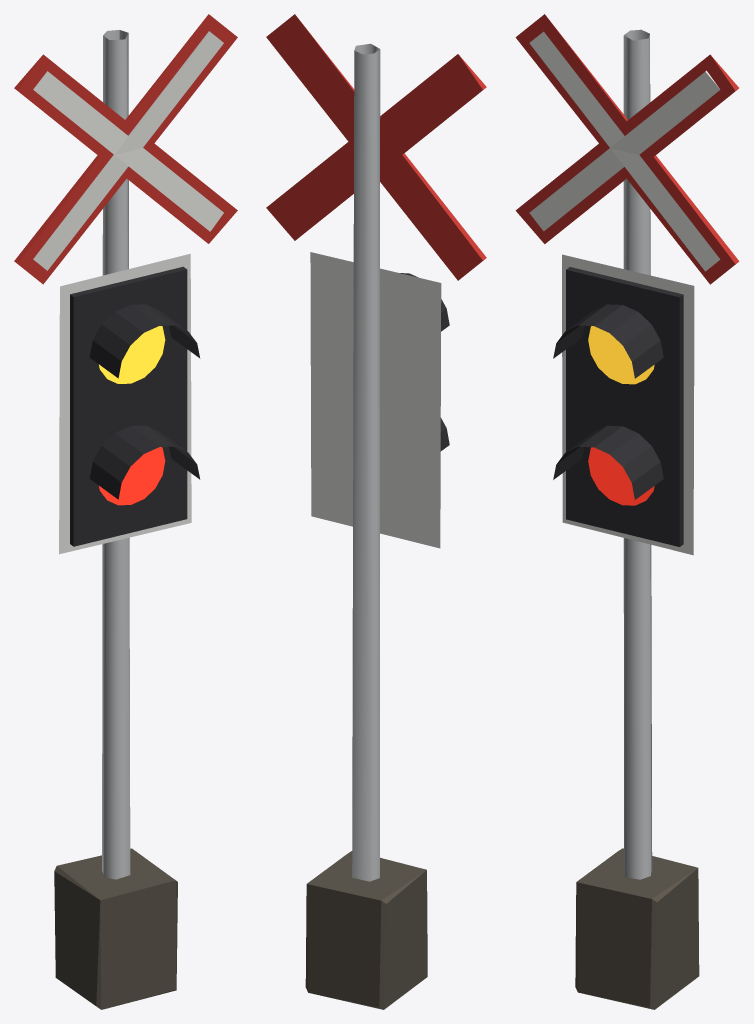
File: crossing-signal-lod1.glb
3 views of the same model, side by side, from view 1: azimuth 30°, elevation 25°; view 2: azimuth 150°, elevation 25°; view 3: azimuth 330°, elevation 25° (orthographic).
Parts seen in each view (by area): view 1: crossing-signal-0.001; view 2: crossing-signal-0.001; view 3: crossing-signal-0.001.
Boxes of the visible parts, box(x1,y1,x2,y2) form: crossing-signal-0.001: box(14, 14, 237, 1009); crossing-signal-0.001: box(266, 14, 486, 1009); crossing-signal-0.001: box(515, 14, 739, 1009).
Size of the model in its own units: 0.9684 by 4.03 by 0.51.
